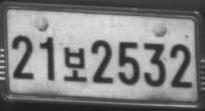1: (37, 36, 59, 80)
2: (169, 43, 193, 89), (11, 34, 34, 80), (90, 39, 114, 83)
3: (142, 42, 166, 86)
5: (117, 41, 140, 85)
보: (63, 46, 87, 82)
